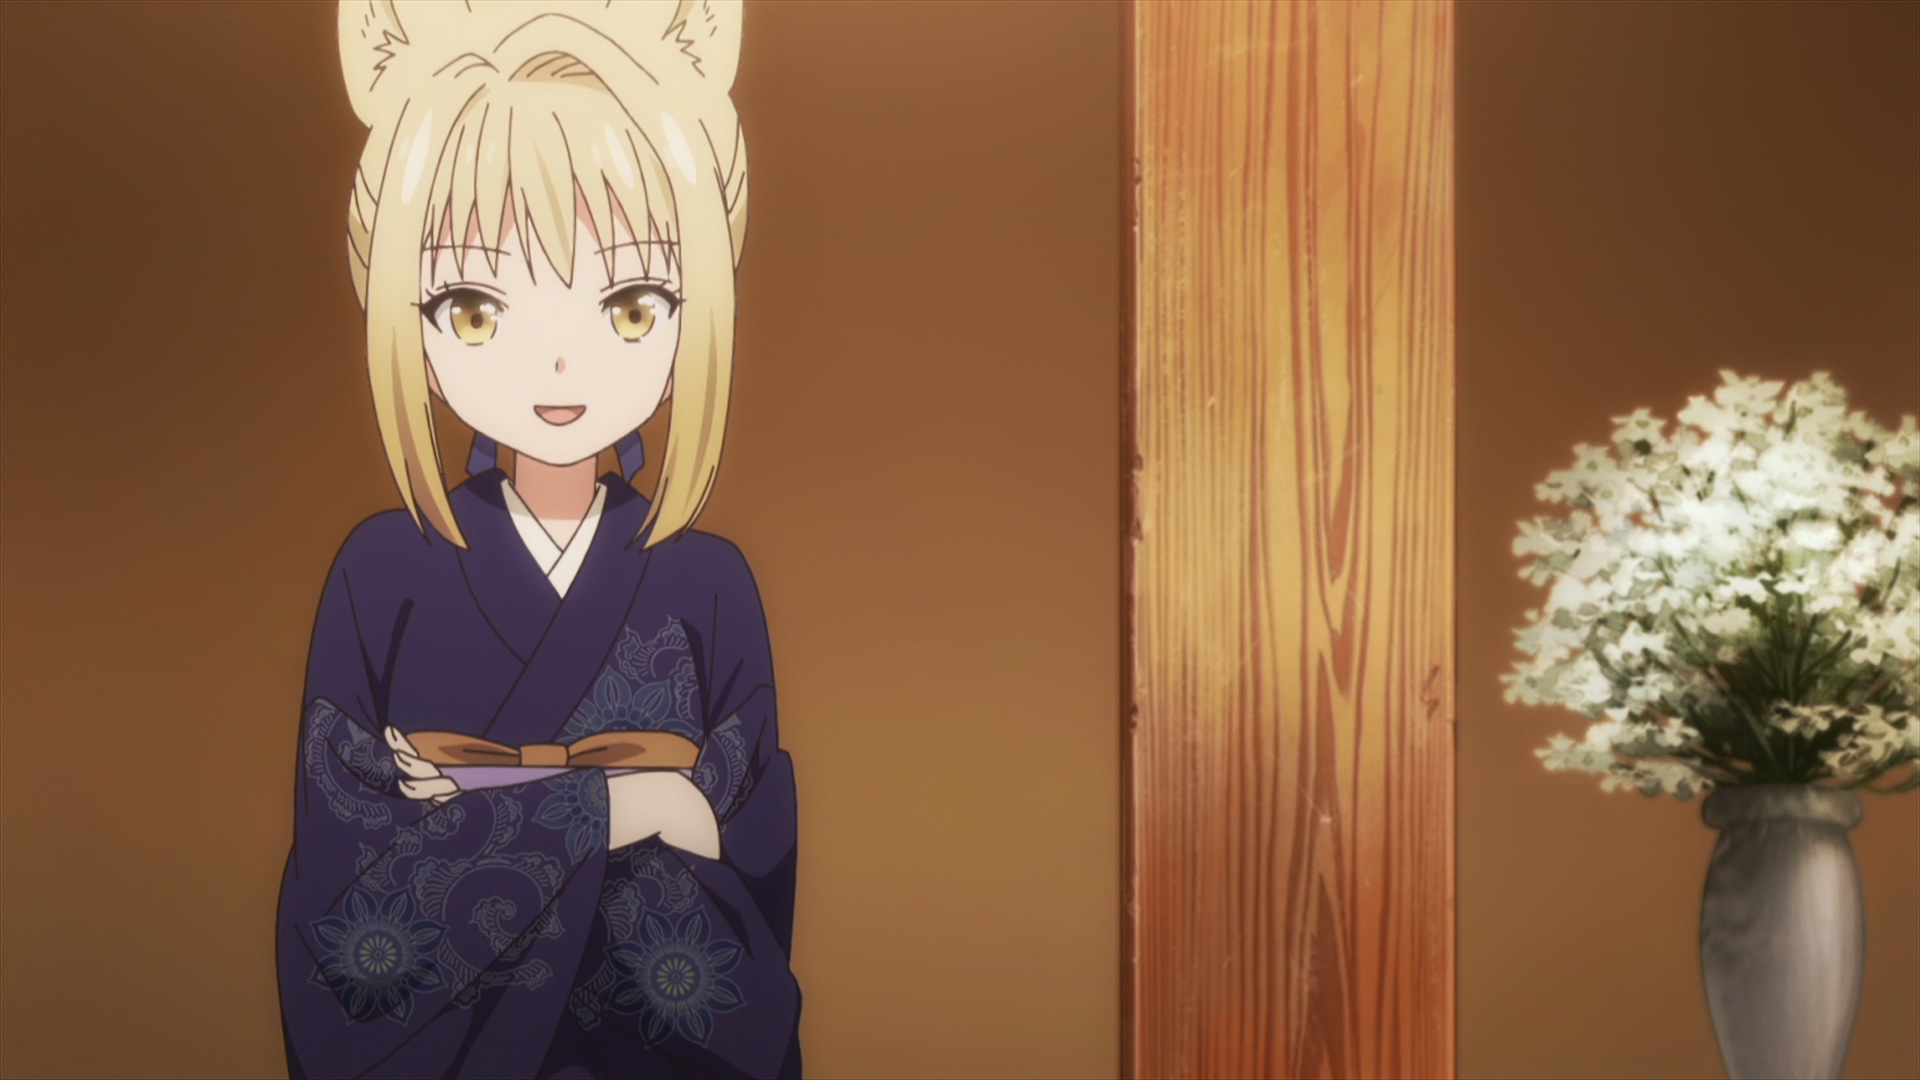桐: (278, 1, 798, 1080)
